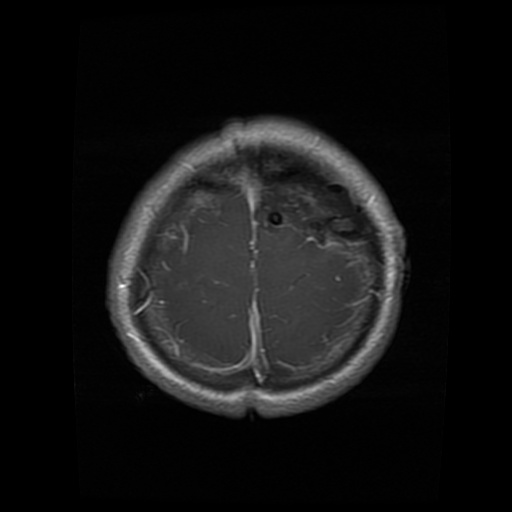glioma: (183, 148, 370, 242)
